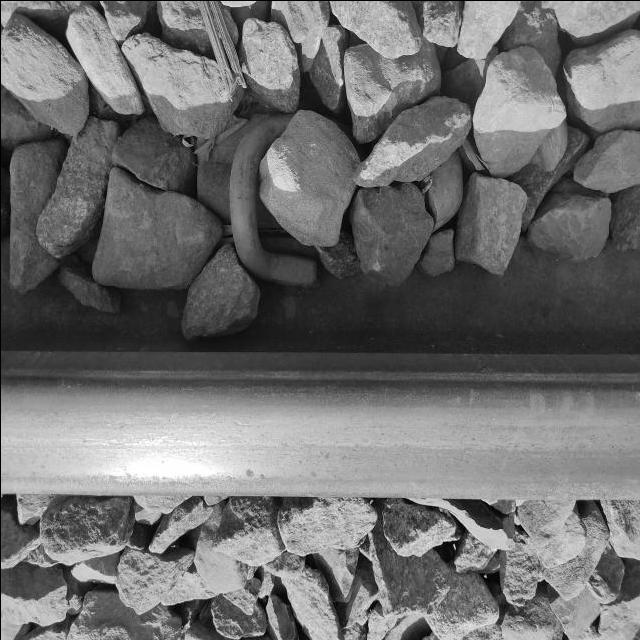broken_rail_medium: (309, 447, 331, 477), (243, 466, 254, 478), (258, 470, 266, 482)
